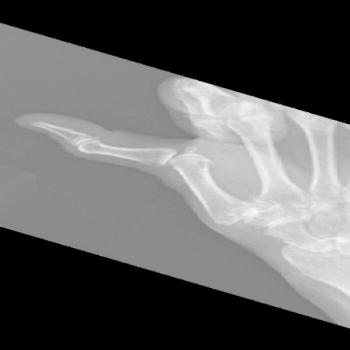Fracture: (158, 143, 201, 166)
